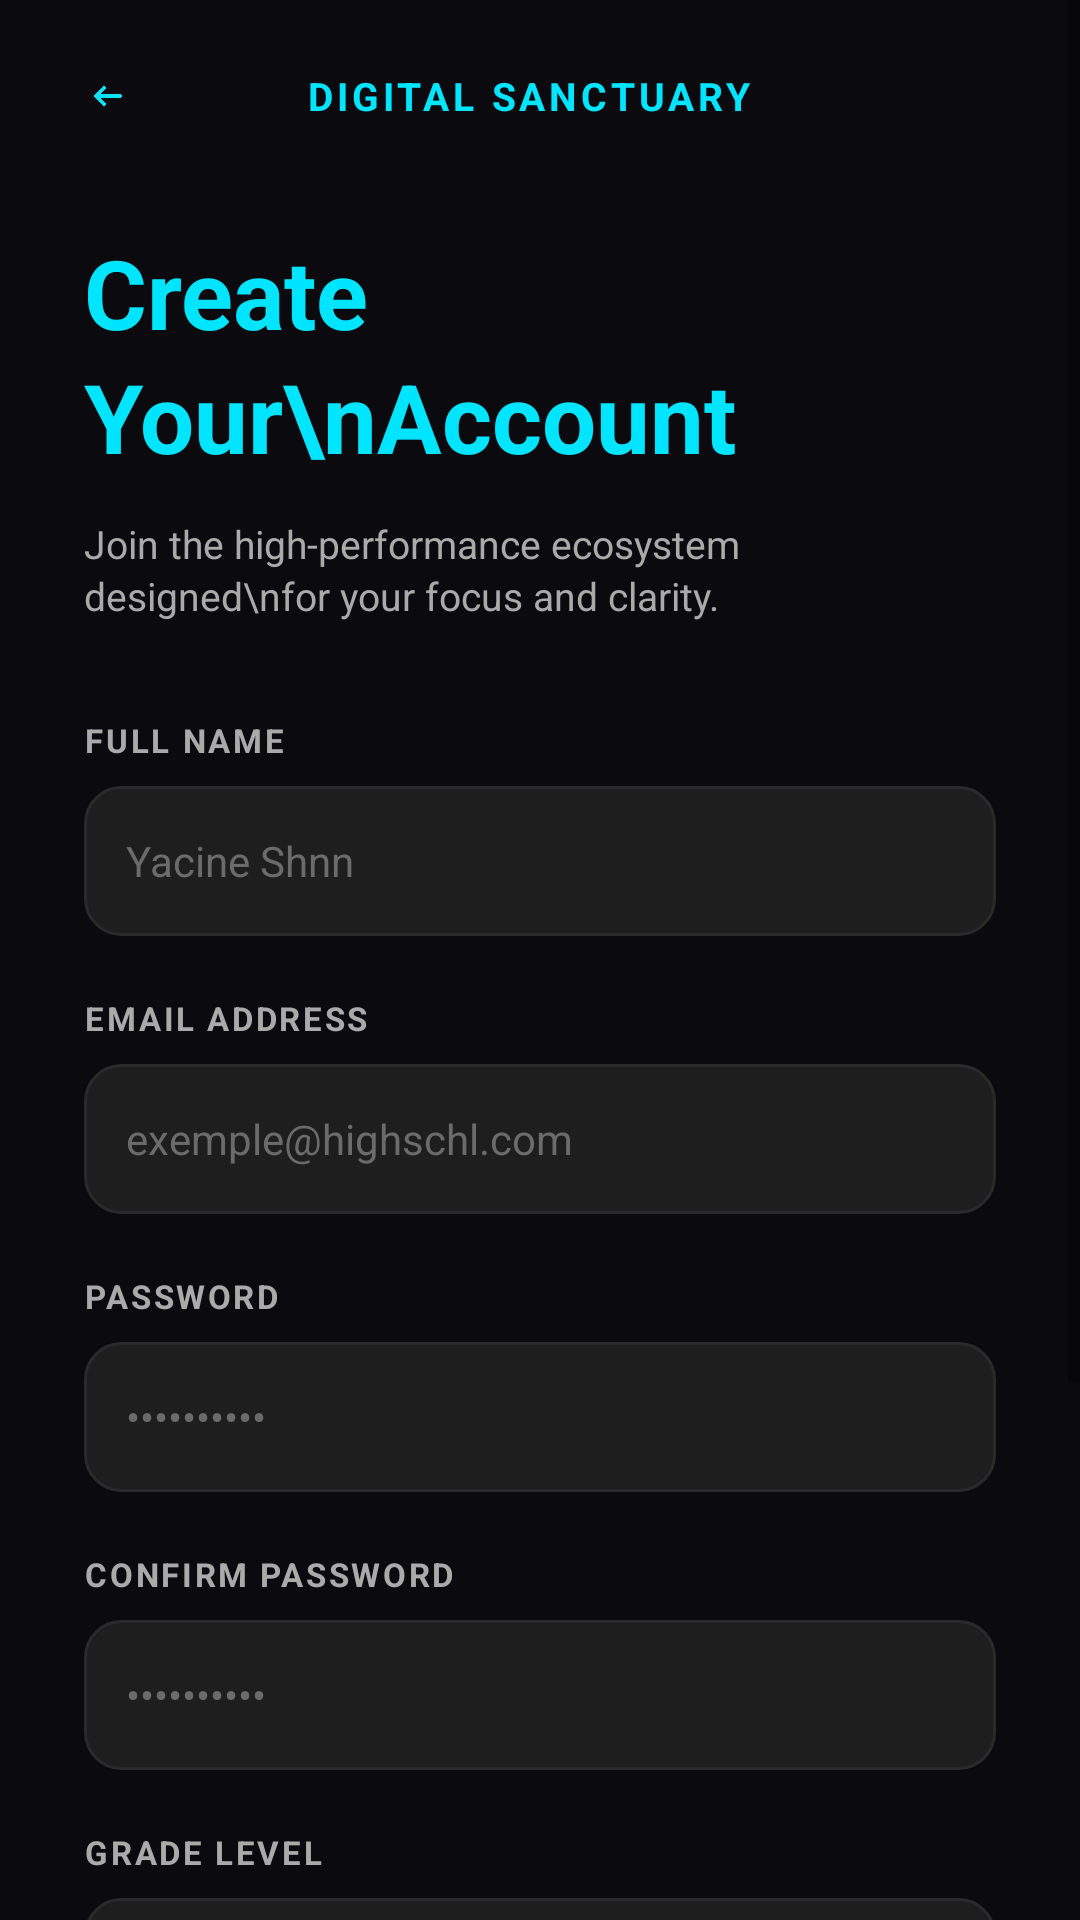

Icons on this 1080 x 1920 Android screen, each with its box as (x1, y1, x2, y2):
arrow back: (94, 86, 122, 106)
